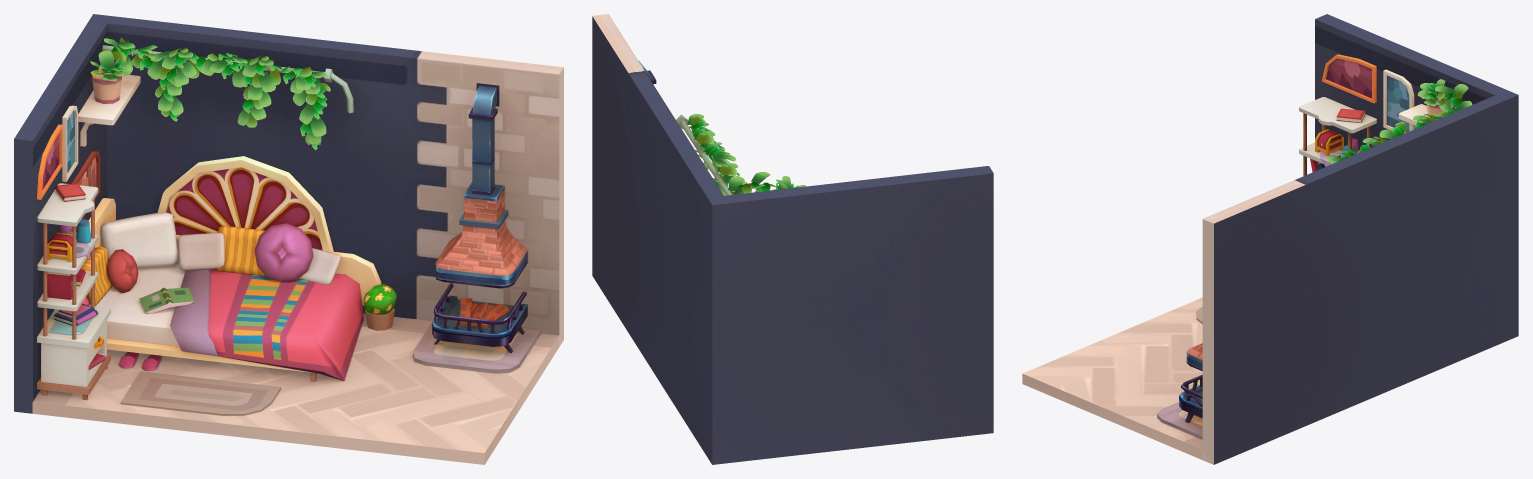
3 renders of one model, left to right at view 1: azimuth 30°, elevation 25°; view 2: azimuth 150°, elevation 25°; view 3: azimuth 270°, elevation 25°, orthographic. The views are drawn at different scales.
Parts seen in each view (by area): view 1: Walls, Bed, Fireplace, Cupboard, Leafs, Accesories; view 2: Walls, Leafs, Accesories; view 3: Walls, Accesories, Cupboard, Leafs, Fireplace.
Boxes of the visible parts, <box> form: Walls: <box>14,14,563,464</box>; Bed: <box>80,156,396,415</box>; Fireplace: <box>413,83,540,373</box>; Cupboard: <box>37,183,110,400</box>; Leafs: <box>90,37,330,150</box>; Accesories: <box>36,45,353,231</box>; Walls: <box>592,14,993,464</box>; Leafs: <box>687,114,805,195</box>; Accesories: <box>676,114,732,195</box>; Walls: <box>1022,14,1518,464</box>; Accesories: <box>1321,54,1452,133</box>; Cupboard: <box>1299,97,1376,176</box>; Leafs: <box>1327,79,1472,164</box>; Fireplace: <box>1157,343,1202,439</box>.
Bounding box in the file's own units: 4.97 × 2.69 × 4.97.
6 materials, 6 textured.
